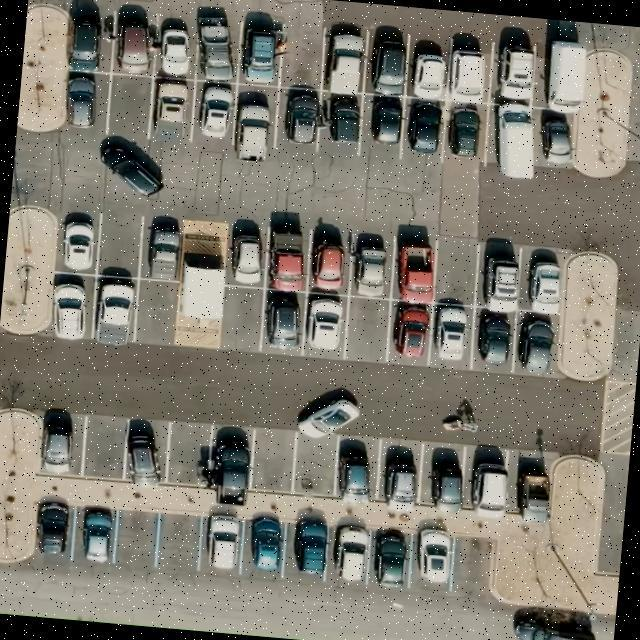space-empty: (490, 524, 553, 600), (94, 204, 144, 278), (278, 20, 328, 91), (290, 432, 342, 498), (342, 294, 392, 362), (248, 428, 298, 496), (431, 236, 479, 304), (104, 73, 152, 141), (80, 414, 128, 482), (154, 507, 202, 575), (217, 284, 266, 350), (444, 536, 496, 597), (133, 277, 180, 343), (113, 507, 160, 571), (170, 422, 212, 487)
space-occupied: (530, 35, 588, 109), (487, 102, 543, 178), (489, 34, 545, 106), (318, 20, 372, 94), (64, 0, 118, 73), (235, 20, 292, 89), (230, 83, 280, 161), (206, 424, 256, 502), (220, 217, 274, 289), (87, 274, 141, 344), (417, 442, 469, 514), (462, 446, 514, 518), (110, 7, 162, 79), (388, 232, 441, 302), (34, 409, 86, 480), (148, 75, 198, 147), (305, 224, 355, 296), (346, 227, 396, 299), (474, 238, 524, 310), (408, 524, 459, 594), (504, 444, 552, 518), (326, 518, 376, 588), (374, 438, 424, 508), (47, 270, 97, 340), (196, 508, 247, 576), (239, 512, 290, 580), (282, 514, 333, 582), (446, 34, 496, 102), (192, 14, 241, 83), (56, 206, 104, 276), (386, 298, 436, 365), (300, 291, 350, 358), (152, 13, 202, 80), (121, 418, 170, 486), (258, 288, 308, 354), (510, 310, 559, 377), (69, 502, 120, 566), (190, 80, 238, 148), (518, 246, 566, 314), (273, 88, 325, 150), (362, 27, 408, 97), (138, 215, 186, 281), (58, 70, 109, 132), (441, 100, 490, 164), (400, 96, 446, 164), (366, 526, 414, 591), (330, 436, 377, 502), (264, 223, 310, 290), (404, 36, 451, 101), (358, 92, 404, 158), (469, 310, 516, 372), (29, 500, 76, 562), (428, 304, 471, 370), (318, 91, 364, 151), (531, 109, 572, 172)
